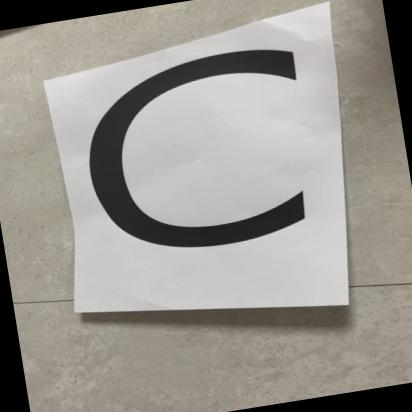seat: (41, 28, 362, 331)
